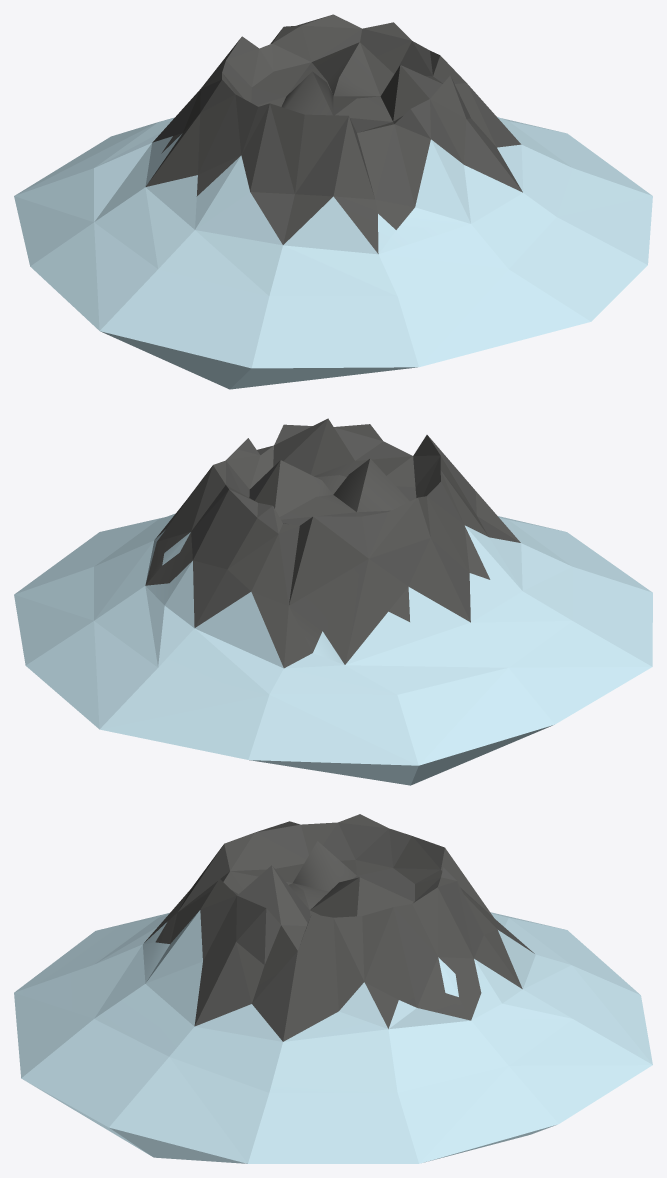
File: worlds_SM_Env_Detail_Crater_Spike_01.gltf
3 renders of one model, top to bottom at view 1: azimuth 30°, elevation 25°; view 2: azimuth 150°, elevation 25°; view 3: azimuth 270°, elevation 25°, orthographic.
Parts seen in each view (by area): view 1: SM_Env_Detail_Crater_Spike_01; view 2: SM_Env_Detail_Crater_Spike_01; view 3: SM_Env_Detail_Crater_Spike_01.
Part boxes in pixels (left/top/right/bottom): SM_Env_Detail_Crater_Spike_01: left=14, top=14, right=652, bottom=389; SM_Env_Detail_Crater_Spike_01: left=14, top=418, right=652, bottom=785; SM_Env_Detail_Crater_Spike_01: left=14, top=814, right=652, bottom=1163.
Bounding box in the file's own units: 21.89 × 8.17 × 21.89.
Materials: 1 (1 with a texture image).
